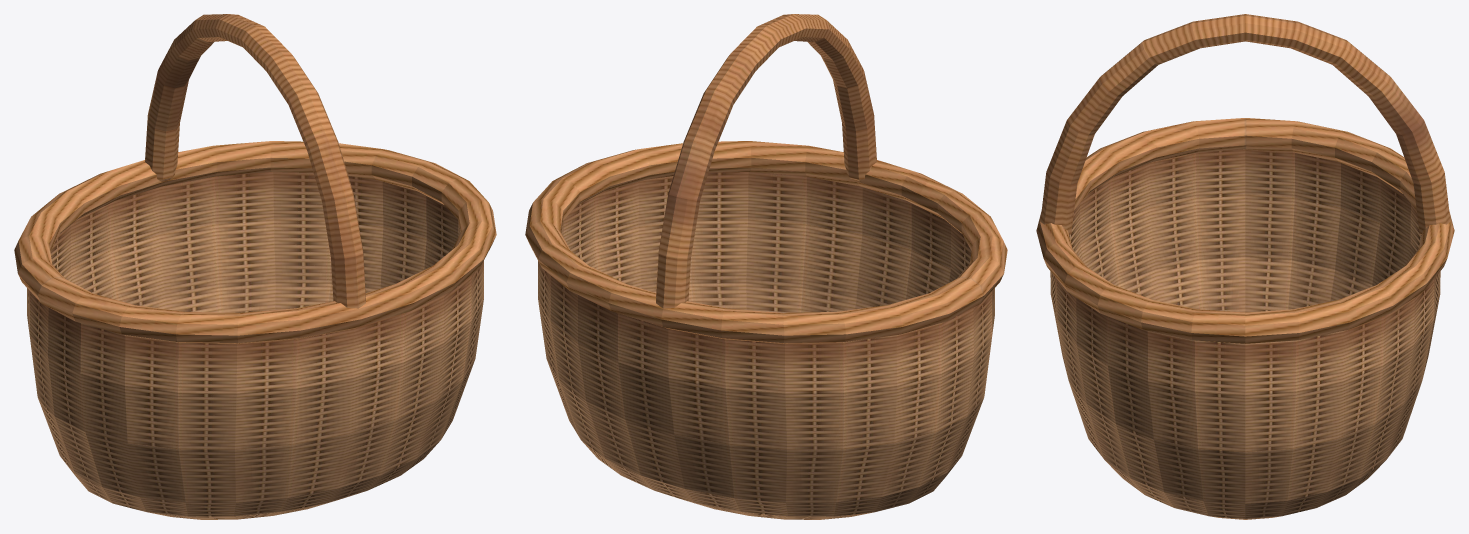
The model's file is sweethome3d-scopia-shopping-basket.glb.
3 views of the same model, side by side, from view 1: azimuth 30°, elevation 25°; view 2: azimuth 150°, elevation 25°; view 3: azimuth 270°, elevation 25° (orthographic).
Visible parts, largest first — view 1: Torus.001; view 2: Torus.001; view 3: Torus.001.
Boxes of the visible parts, x1=… form: Torus.001: x1=14, y1=14, x2=496, y2=519; Torus.001: x1=525, y1=14, x2=1007, y2=519; Torus.001: x1=1036, y1=14, x2=1454, y2=519.
Bounding box in the file's own units: 60 × 61.11 × 50.19.
Materials: 1 (1 with a texture image).
